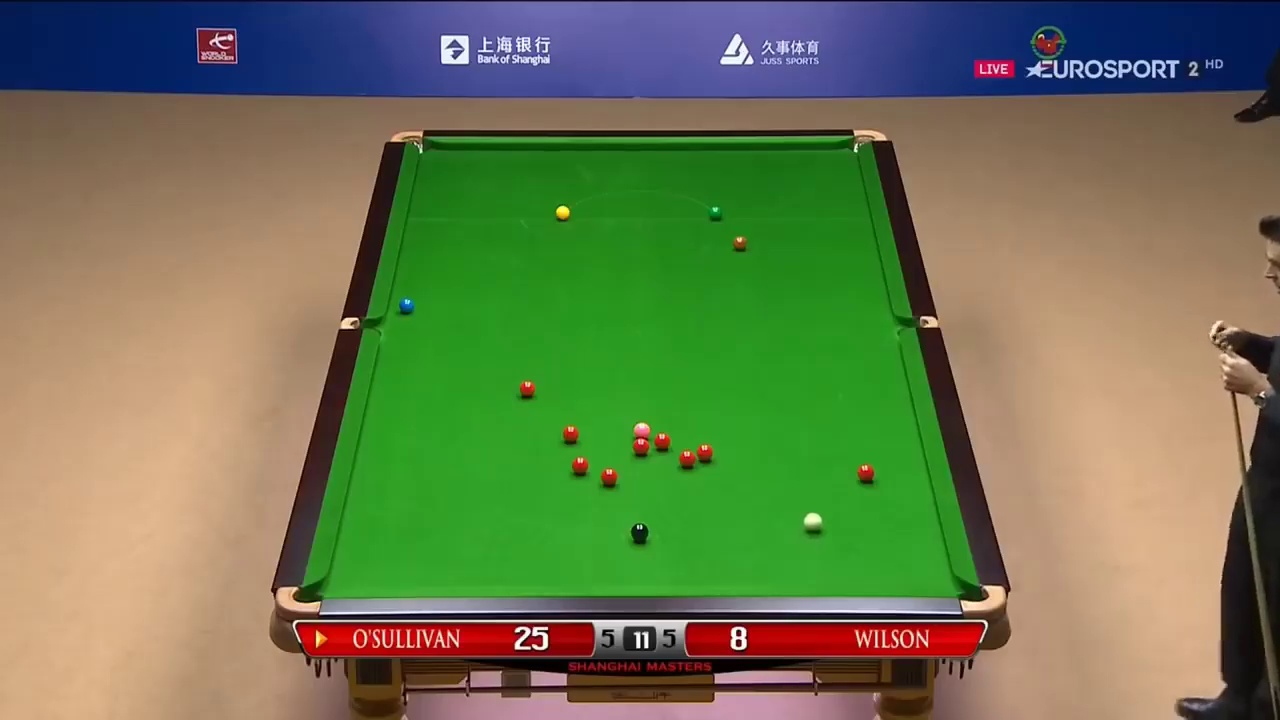ball: (630, 523, 649, 542), (857, 465, 875, 484), (678, 451, 696, 468), (631, 436, 648, 453), (571, 455, 588, 472), (731, 234, 748, 251), (563, 422, 578, 439), (554, 204, 570, 219), (708, 205, 724, 219), (398, 297, 414, 311), (519, 380, 533, 394)
